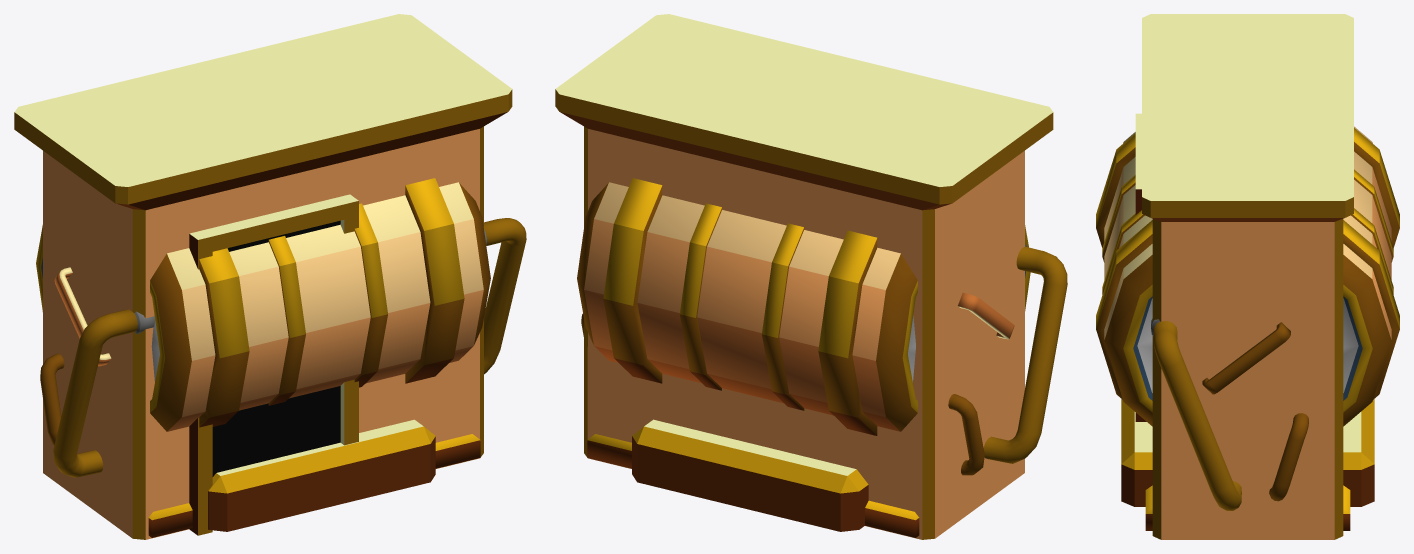
File: humanchain_roofprops.fbx
The picture shows the model from 3 angles, left to right: view 1: azimuth 30°, elevation 25°; view 2: azimuth 150°, elevation 25°; view 3: azimuth 270°, elevation 25°; orthographic projection. The views are drawn at different scales.
Visible parts, largest first — view 1: structure_01.001, Cube.001, Cube.002; view 2: structure_01.001, Cube.001, Cube.002; view 3: structure_01.001, Cube.001, Cube.002.
Boxes of the visible parts, left/top/right/bottom form: structure_01.001: left=14, top=14, right=512, bottom=539; Cube.001: left=36, top=178, right=526, bottom=537; Cube.002: left=208, top=419, right=435, bottom=531; structure_01.001: left=555, top=14, right=1053, bottom=539; Cube.001: left=577, top=178, right=1067, bottom=537; Cube.002: left=632, top=419, right=868, bottom=531; structure_01.001: left=1135, top=14, right=1353, bottom=539; Cube.001: left=1096, top=126, right=1399, bottom=530; Cube.002: left=1121, top=399, right=1374, bottom=506.
Size of the model in its own units: 3.91 by 3.05 by 2.4.
